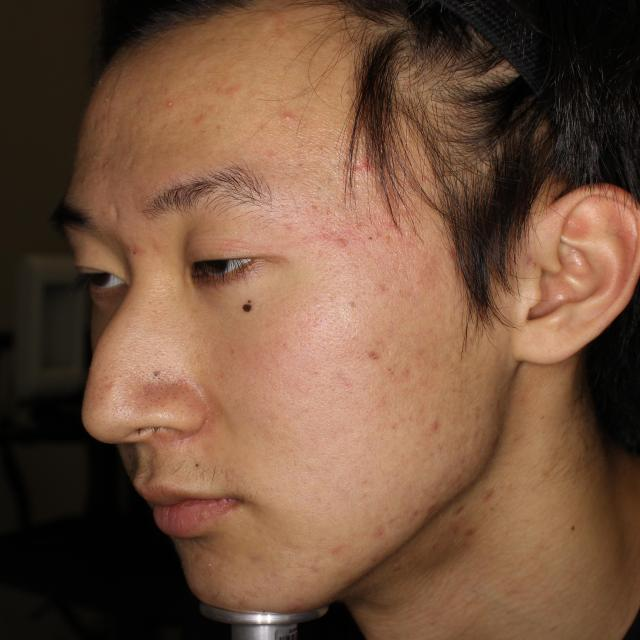acne: (423, 407, 451, 438), (358, 521, 393, 545), (125, 235, 148, 258), (273, 108, 295, 128), (335, 227, 354, 248), (193, 107, 210, 126)
